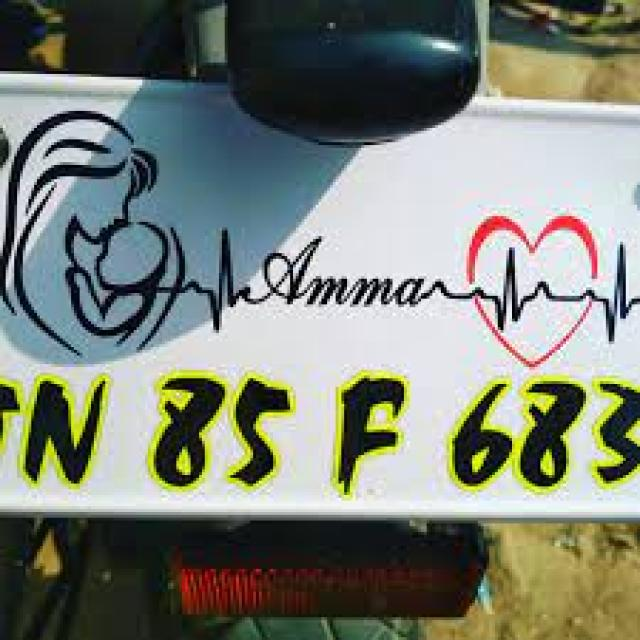number plate: (0, 66, 640, 526)
